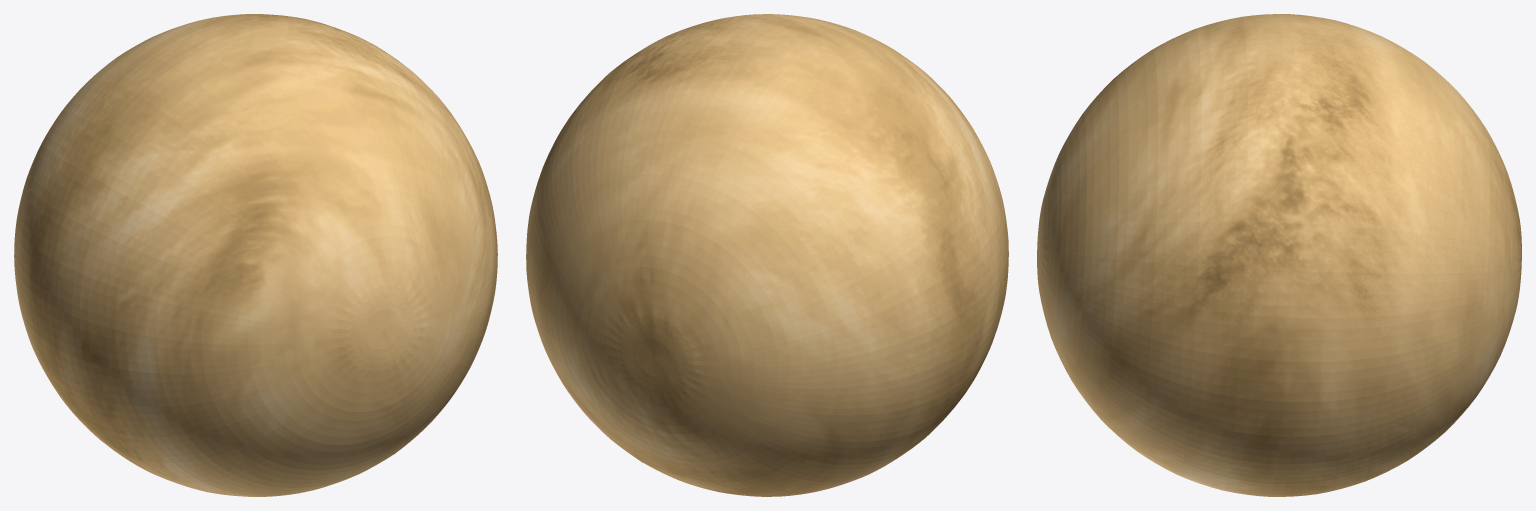
File: venus.obj
The picture shows the model from 3 angles, left to right: view 1: azimuth 30°, elevation 25°; view 2: azimuth 150°, elevation 25°; view 3: azimuth 270°, elevation 25°; orthographic projection.
Visible parts, largest first — view 1: Sphere.022; view 2: Sphere.022; view 3: Sphere.022.
Part boxes in pixels (x1,y1,x2,y2): Sphere.022: (14, 14, 497, 496); Sphere.022: (526, 14, 1008, 496); Sphere.022: (1037, 14, 1521, 496).
Size of the model in its own units: 1.98 by 1.98 by 1.99.
Materials: 1 (1 with a texture image).
